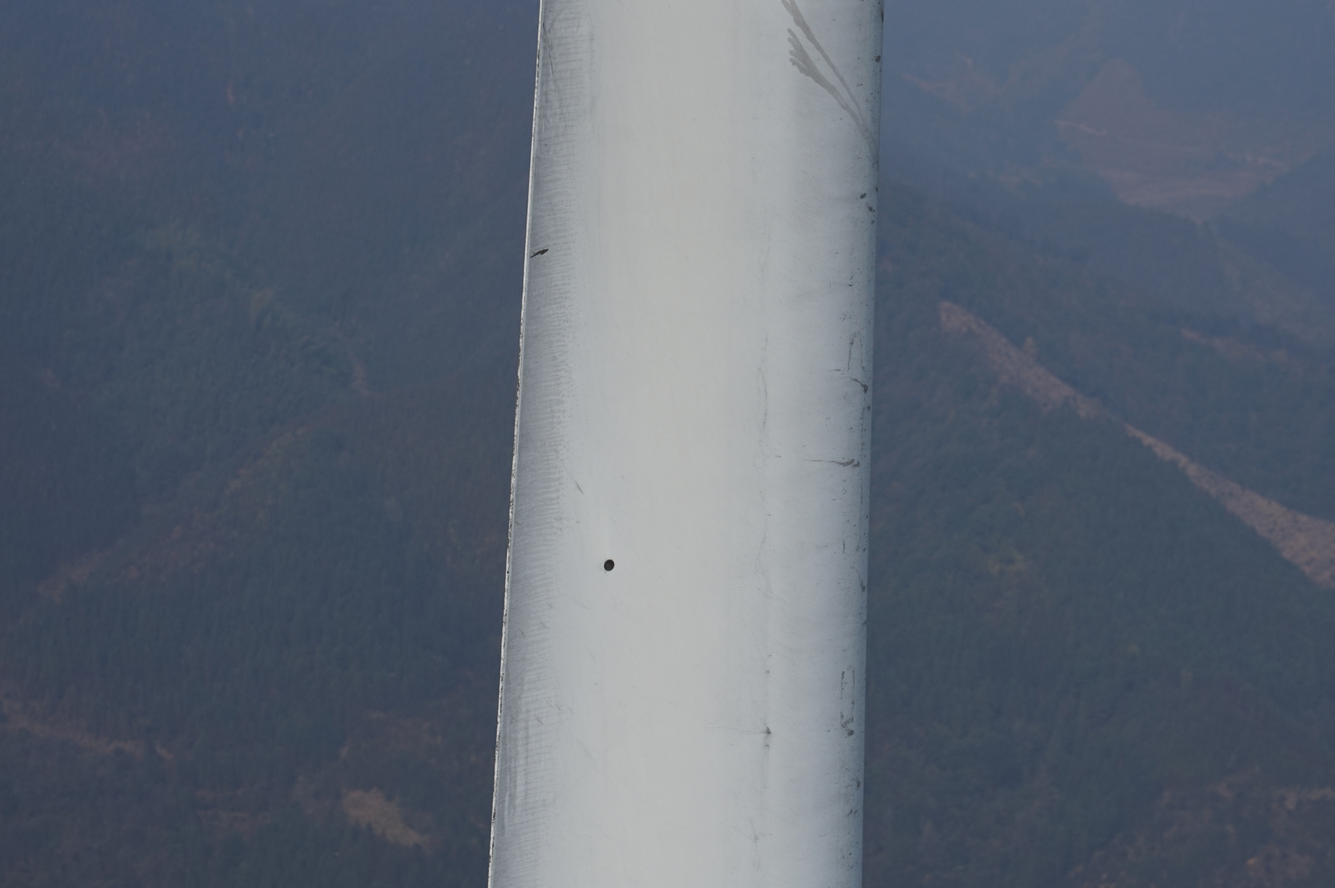Dirt: (530, 249, 550, 258)
